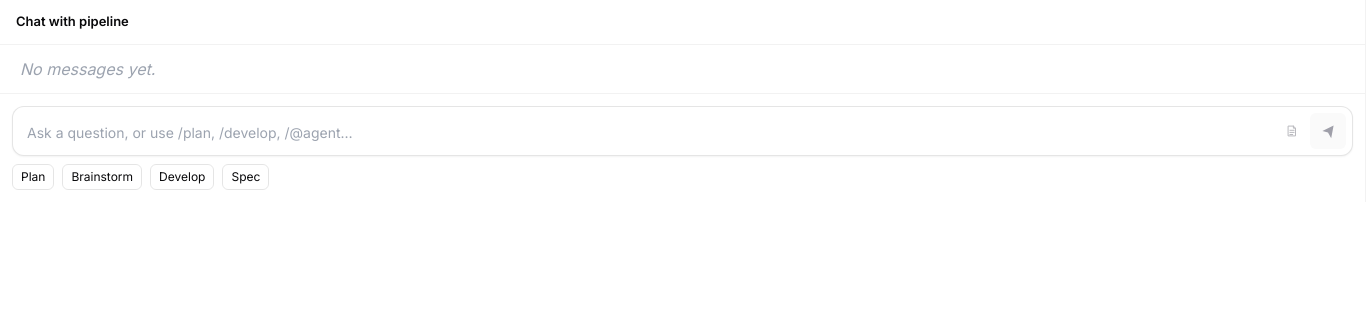
Test case: ChatPane › appends user message and reply to the message list after send
The image size is (1366, 322).
In the text box with test id "chat-input": (644, 132) x1=19 y1=116 x2=1270 y2=148, type "hello"
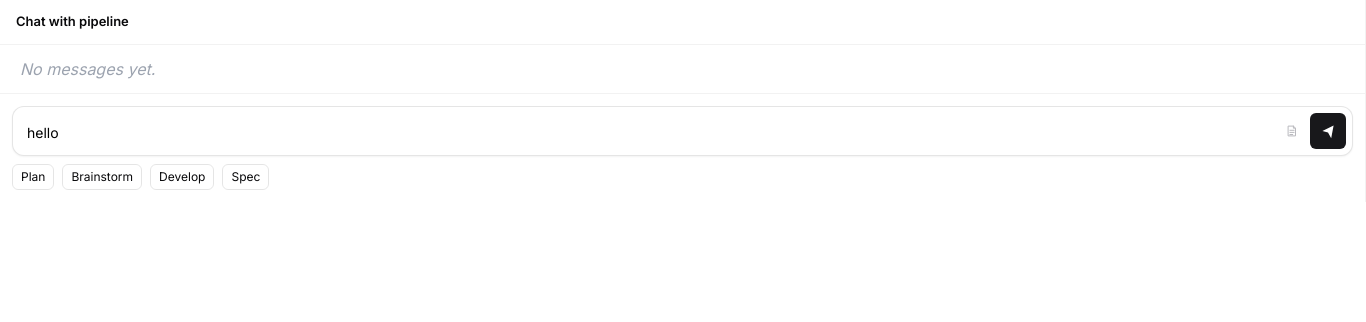
Click the button with test id "chat-send": (1328, 130) x1=1310 y1=112 x2=1346 y2=148
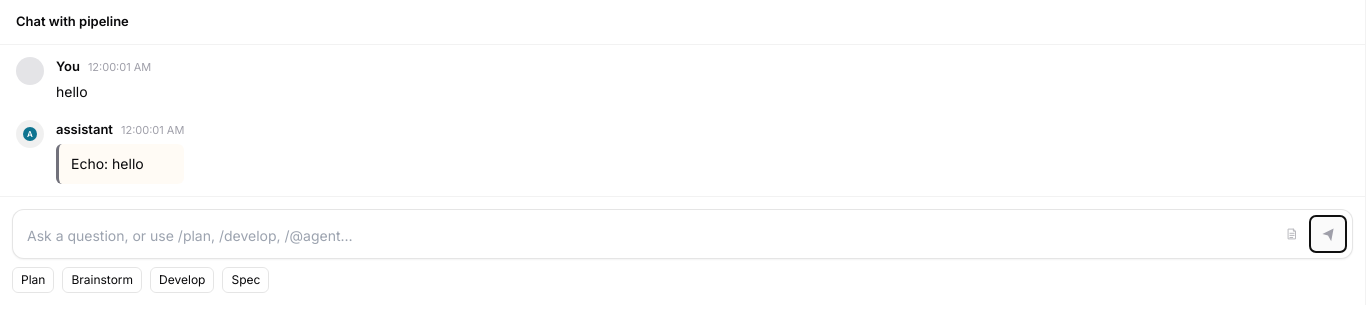
Expected: the number of elements with test id "chat-message-user" is 1, x1=16 y1=56 x2=151 y2=100
Expected: the number of elements with test id "chat-message-agent" is 1, x1=16 y1=120 x2=184 y2=184
Expected: the element with test id "chat-message-user" shows "hello", x1=56 y1=83 x2=88 y2=100
